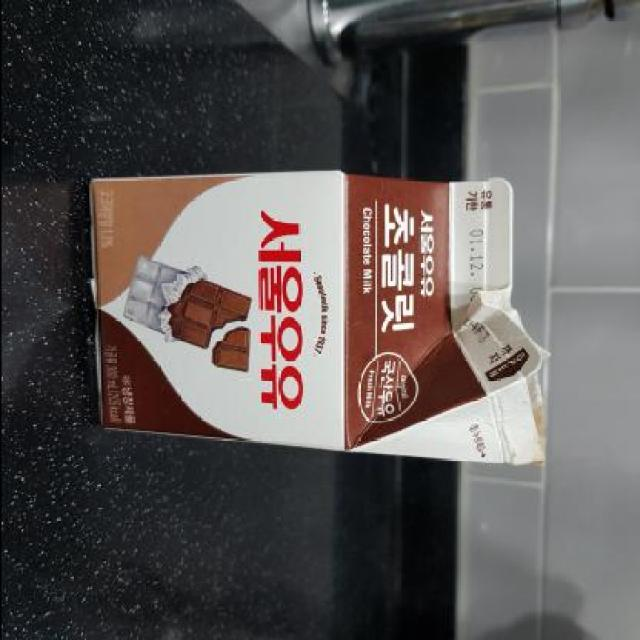non_white_jug: (75, 161, 557, 481)
